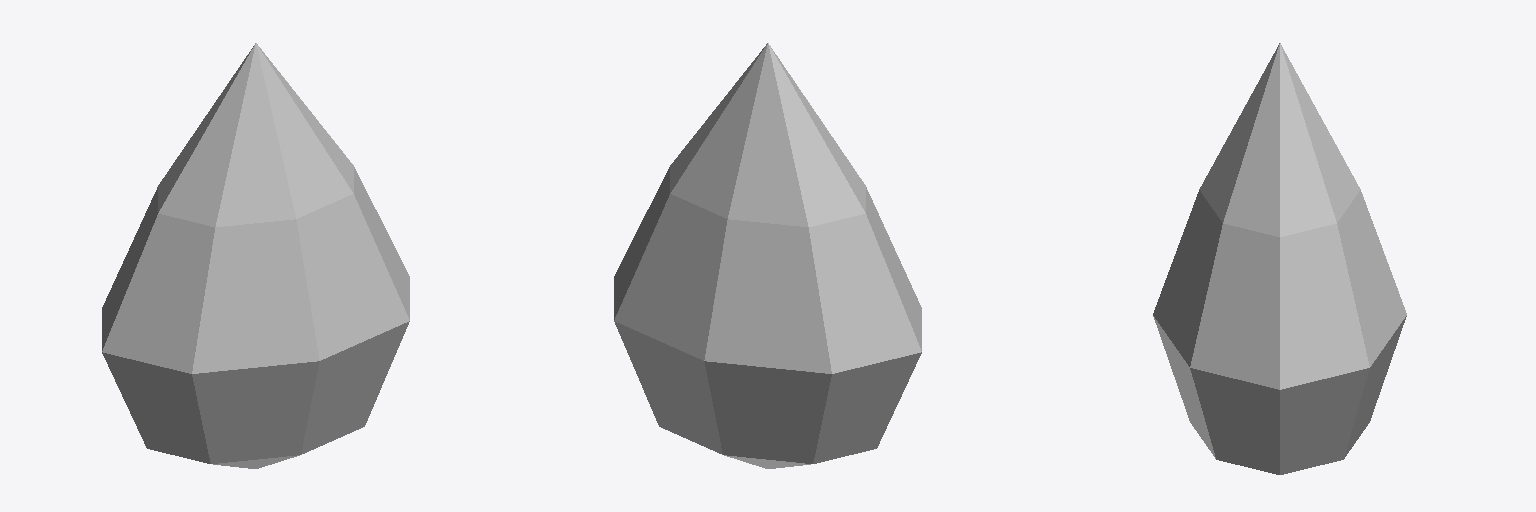
The model's file is PopCornKernel.obj.
The picture shows the model from 3 angles: view 1: azimuth 30°, elevation 25°; view 2: azimuth 150°, elevation 25°; view 3: azimuth 270°, elevation 25°; orthographic projection.
Visible parts, largest first — view 1: PopCornKernel; view 2: PopCornKernel; view 3: PopCornKernel.
Boxes of the visible parts, x1=… form: PopCornKernel: x1=102, y1=43, x2=409, y2=468; PopCornKernel: x1=614, y1=43, x2=921, y2=468; PopCornKernel: x1=1153, y1=43, x2=1406, y2=474.
Size of the model in its own units: 1.28 by 1.69 by 0.9156.